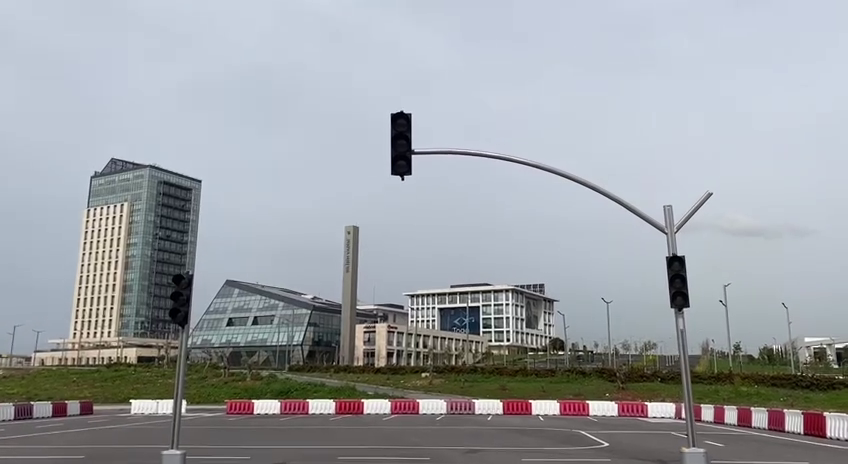trafficLight: (385, 107, 417, 184), (662, 251, 693, 313), (166, 267, 196, 330)
